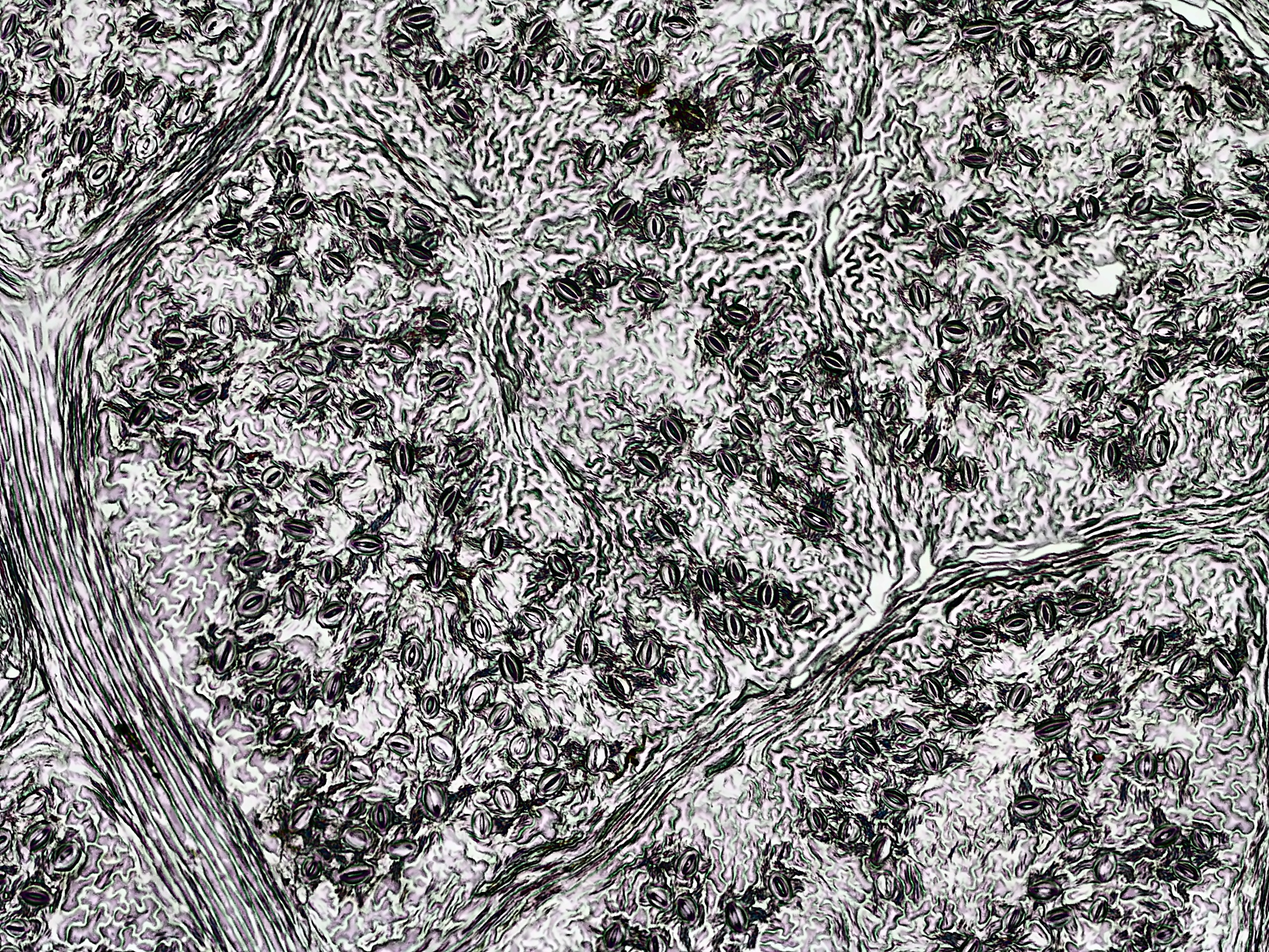stomata: (795, 504, 835, 533), (1207, 644, 1238, 679), (18, 818, 54, 848), (604, 196, 637, 228), (303, 471, 337, 502), (535, 768, 569, 799), (245, 647, 280, 677), (347, 531, 387, 556), (399, 634, 425, 672), (635, 48, 661, 86), (424, 551, 452, 586), (201, 9, 231, 41), (322, 668, 346, 708), (1087, 695, 1121, 723), (389, 436, 412, 477), (1056, 409, 1082, 445), (1142, 351, 1171, 383), (234, 587, 267, 615), (923, 429, 946, 469), (347, 396, 381, 423), (281, 514, 315, 541), (401, 241, 437, 266), (126, 399, 154, 431), (425, 734, 457, 762), (962, 20, 999, 44), (957, 452, 981, 489), (48, 72, 74, 106), (1, 105, 23, 145), (167, 437, 192, 472), (584, 739, 609, 774), (227, 485, 257, 514), (730, 410, 759, 440), (48, 844, 79, 872), (633, 275, 664, 303), (1005, 680, 1033, 711), (1034, 717, 1070, 741), (631, 450, 664, 476), (236, 547, 273, 570), (420, 780, 443, 817), (1178, 194, 1215, 217), (175, 94, 203, 124), (937, 222, 965, 252), (599, 918, 626, 949), (767, 872, 794, 903), (1076, 188, 1099, 224), (934, 359, 957, 395), (1083, 40, 1108, 73), (582, 141, 606, 175), (721, 302, 755, 326), (637, 635, 661, 669), (869, 831, 893, 865), (510, 54, 532, 91), (406, 206, 435, 234), (15, 786, 44, 814), (1013, 358, 1042, 386), (524, 14, 551, 44), (210, 440, 236, 471), (283, 193, 315, 218), (18, 882, 50, 907), (149, 372, 182, 396), (724, 901, 748, 934), (759, 106, 792, 130), (1230, 206, 1263, 230), (1149, 430, 1171, 466), (273, 669, 301, 697), (619, 137, 647, 165), (755, 43, 783, 71), (992, 70, 1020, 98), (850, 730, 878, 758), (816, 765, 844, 793), (317, 600, 346, 627), (133, 12, 163, 38), (716, 445, 742, 475), (1225, 86, 1255, 112), (1047, 656, 1073, 686), (977, 293, 1008, 318), (1183, 90, 1208, 121), (498, 652, 522, 684), (1137, 87, 1161, 119), (920, 740, 943, 773), (790, 399, 818, 426), (654, 512, 681, 540), (769, 140, 796, 168), (322, 249, 351, 275), (268, 719, 297, 745), (1173, 859, 1202, 885), (139, 77, 164, 107), (1067, 592, 1101, 614), (495, 782, 519, 813), (1034, 214, 1058, 245), (474, 44, 497, 76), (1098, 438, 1121, 470), (329, 338, 364, 359), (304, 381, 331, 408), (363, 197, 391, 223), (1209, 336, 1235, 364), (1150, 821, 1178, 847), (480, 526, 502, 559), (960, 146, 993, 168), (1095, 850, 1117, 883), (426, 61, 451, 90), (544, 551, 569, 580), (981, 112, 1010, 137), (1114, 152, 1143, 177), (1152, 317, 1181, 342), (838, 815, 863, 844), (275, 146, 299, 176), (292, 351, 322, 375), (667, 178, 691, 208), (661, 414, 685, 444), (1172, 648, 1196, 678), (266, 316, 300, 337), (101, 68, 124, 99), (426, 369, 457, 392), (290, 801, 313, 832), (791, 59, 813, 91), (886, 203, 908, 235), (1198, 303, 1220, 335), (1045, 755, 1077, 777), (1012, 795, 1044, 817), (1042, 905, 1074, 927), (585, 261, 612, 287), (786, 437, 812, 464), (1239, 155, 1266, 181), (401, 6, 436, 26), (449, 95, 473, 124), (0, 8, 21, 41), (70, 124, 91, 157), (189, 382, 219, 405), (755, 578, 778, 608), (26, 38, 57, 60), (212, 311, 234, 342), (989, 377, 1009, 411), (1028, 878, 1062, 898), (554, 276, 579, 303), (136, 133, 160, 161), (211, 217, 243, 238), (318, 557, 342, 585), (609, 673, 633, 701), (942, 318, 970, 342), (898, 422, 919, 454), (1113, 400, 1141, 424), (469, 613, 492, 642), (489, 702, 512, 731), (910, 280, 931, 311), (1243, 277, 1269, 302), (1082, 660, 1107, 686), (703, 332, 730, 356), (1011, 320, 1035, 347), (784, 595, 808, 622), (665, 13, 693, 36), (267, 252, 299, 272), (439, 483, 459, 515), (577, 630, 597, 662), (1036, 598, 1056, 630), (226, 182, 255, 204), (1162, 270, 1191, 292), (1134, 749, 1156, 778), (195, 350, 225, 371), (214, 638, 232, 673), (626, 7, 647, 37), (371, 804, 392, 834), (644, 210, 663, 243), (348, 758, 373, 783), (1017, 143, 1042, 168), (89, 158, 113, 184), (363, 234, 387, 260), (535, 741, 561, 765), (389, 34, 416, 57), (1242, 375, 1269, 398), (906, 10, 926, 41), (387, 340, 415, 362), (1144, 626, 1162, 660), (762, 393, 781, 425), (724, 610, 743, 642), (582, 49, 606, 74), (246, 689, 271, 713), (466, 684, 489, 710), (677, 850, 700, 876), (1182, 687, 1208, 710), (422, 313, 455, 331), (286, 583, 304, 616), (948, 663, 975, 685), (725, 558, 746, 586), (732, 83, 753, 111), (834, 393, 852, 425), (258, 215, 283, 238), (272, 367, 295, 392), (318, 745, 343, 768), (472, 812, 494, 838), (676, 896, 698, 922), (881, 787, 907, 809), (1164, 749, 1183, 779), (352, 628, 379, 649), (450, 445, 477, 466), (1049, 34, 1070, 61), (970, 197, 991, 224), (160, 329, 188, 349), (263, 461, 283, 489), (342, 865, 373, 883), (1056, 796, 1080, 819), (883, 392, 902, 421), (805, 807, 827, 832), (875, 873, 897, 898), (521, 609, 547, 630), (897, 715, 923, 736), (4, 917, 28, 939), (741, 357, 763, 381), (1014, 36, 1036, 60), (946, 712, 977, 729), (387, 733, 412, 754), (777, 372, 806, 390), (819, 351, 848, 369), (388, 839, 415, 858), (661, 561, 680, 588), (1152, 65, 1175, 87), (276, 398, 300, 419), (1129, 192, 1150, 216), (1190, 827, 1211, 851), (964, 625, 989, 645), (762, 462, 778, 493), (421, 689, 438, 718), (602, 73, 620, 100), (1089, 895, 1107, 922), (508, 735, 529, 758), (911, 192, 932, 215), (341, 795, 365, 815), (923, 676, 943, 700), (817, 115, 834, 143), (1002, 615, 1030, 632), (545, 44, 564, 69), (1004, 906, 1023, 931), (345, 828, 368, 848), (1066, 827, 1089, 847), (1085, 375, 1102, 402), (700, 568, 717, 594), (648, 888, 669, 909), (1156, 131, 1179, 150), (337, 194, 352, 223), (1253, 335, 1269, 362), (1050, 0, 1082, 13), (292, 770, 316, 787), (302, 856, 321, 876), (960, 934, 981, 952), (1007, 0, 1032, 15), (647, 930, 664, 952), (1205, 45, 1221, 67), (1156, 927, 1178, 943), (0, 827, 12, 852)
